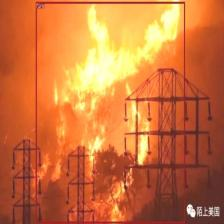fire: (36, 1, 184, 223)
